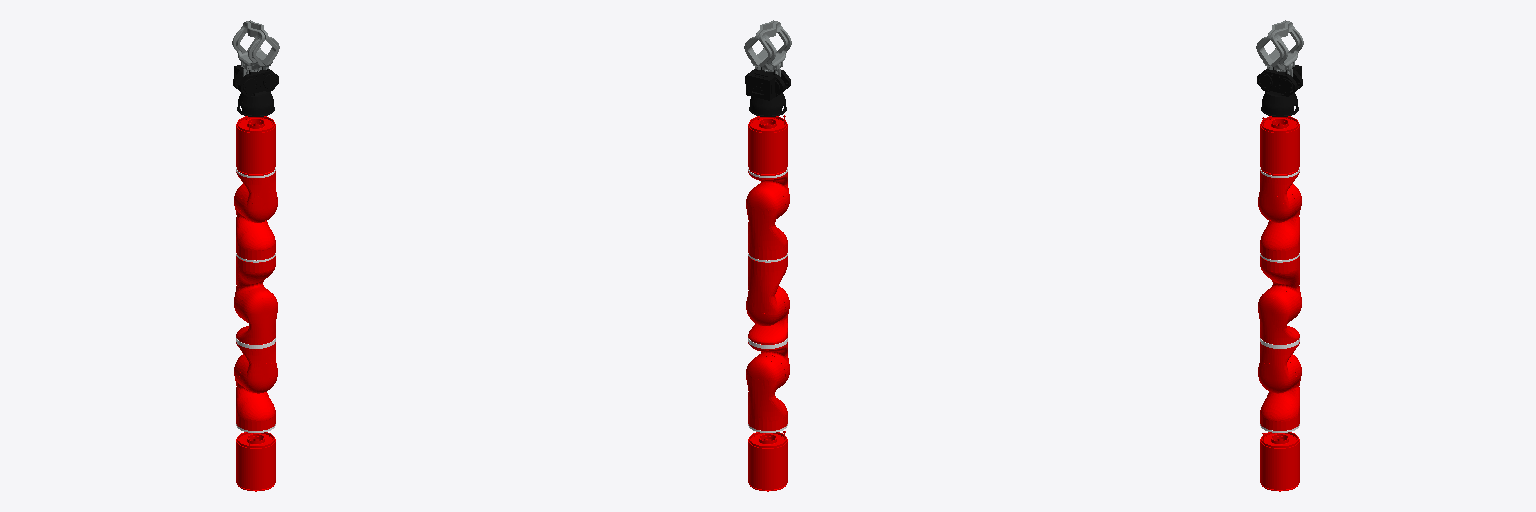
--- Facts derived from the render (not from the file) ---
Views: 3 orthographic renders of the robot side by side, from view 1: azimuth 30°, elevation 25°; view 2: azimuth 150°, elevation 25°; view 3: azimuth 330°, elevation 25°.
Model ModuleManipulator with 25 links and 24 joints (5 revolute, 2 prismatic, 17 fixed), rooted at base_link, posed every joint at zero.
Links seen in each view (by area): view 1: I5_InLink_1, I1_InLink_1, T3_OutLink_2, G6_palm_link, T2_InLink_1, T4_InLink_1, T4_OutLink_2, T2_OutLink_2, T3_InLink_1, G6_finger_link_l; view 2: T4_InLink_1, T2_InLink_1, I5_InLink_1, I1_InLink_1, T3_InLink_1, G6_palm_link, T3_OutLink_2, G6_finger_link_l; view 3: I5_InLink_1, I1_InLink_1, T3_OutLink_2, G6_palm_link, T2_InLink_1, T4_InLink_1, T4_OutLink_2, T2_OutLink_2, T3_InLink_1, G6_finger_link_r.
Boxes of the visible links, x1,y1,x2,y2 form: I5_InLink_1: [236, 116, 275, 175]; I1_InLink_1: [236, 432, 275, 491]; T3_OutLink_2: [236, 288, 277, 344]; G6_palm_link: [233, 65, 278, 116]; T2_InLink_1: [234, 354, 275, 430]; T4_InLink_1: [234, 183, 275, 260]; T4_OutLink_2: [236, 171, 277, 222]; T2_OutLink_2: [236, 342, 277, 393]; T3_InLink_1: [234, 256, 275, 318]; G6_finger_link_l: [232, 21, 264, 76]; T4_InLink_1: [746, 183, 787, 260]; T2_InLink_1: [746, 354, 787, 430]; I5_InLink_1: [748, 115, 787, 175]; I1_InLink_1: [748, 431, 787, 491]; T3_InLink_1: [746, 256, 787, 325]; G6_palm_link: [745, 67, 790, 116]; T3_OutLink_2: [748, 286, 789, 344]; G6_finger_link_l: [759, 21, 791, 76]; I5_InLink_1: [1260, 116, 1299, 175]; I1_InLink_1: [1260, 432, 1299, 491]; T3_OutLink_2: [1258, 288, 1299, 344]; G6_palm_link: [1257, 65, 1302, 116]; T2_InLink_1: [1260, 354, 1301, 430]; T4_InLink_1: [1260, 183, 1301, 259]; T4_OutLink_2: [1258, 171, 1299, 222]; T2_OutLink_2: [1258, 342, 1299, 393]; T3_InLink_1: [1260, 256, 1301, 318]; G6_finger_link_r: [1271, 21, 1303, 76].
Size in the robot's own frame: 0.1119 by 0.1005 by 1.27 metres.
Meshes: 11 distinct files referenced, 17 mesh visuals loaded (8 binary STL); not drawn: 6 (reference not matched to a file when rendering).

robot.urdf — ModuleManipulator:
<?xml version="1.0" ?>
<!-- =================================================================================== -->
<!-- |    This document was autogenerated by xacro from moduleManipulator.urdf.xacro   | -->
<!-- |    EDITING THIS FILE BY HAND IS NOT RECOMMENDED                                 | -->
<!-- =================================================================================== -->
<robot name="ModuleManipulator" xmlns:xacro="http://www.ros.org/wiki/xacro">
  <!-- materials for visualization -->
  <material name="Orange">
    <color rgba="1.0 0.4 0.0 1.0"/>
  </material>
  <material name="Grey">
    <color rgba="0.7 0.7 0.7 1.0"/>
  </material>
  <material name="DarkGrey">
    <color rgba="0.3 0.3 0.3 1.0"/>
  </material>
  <material name="White">
    <color rgba="1.0 1.0 1.0 1.0"/>
  </material>
  <material name="Black">
    <color rgba="0.0 0.0 0.0 1.0"/>
  </material>
  <material name="Red">
    <color rgba="1.0 0.0 0.0 1.0"/>
  </material>
  <material name="Green">
    <color rgba="0.0 1.0 0.0 1.0"/>
  </material>
  <material name="Blue">
    <color rgba="0.0 0.0 0.8 1.0"/>
  </material>
  <material name="LightGrey">
    <color rgba="0.82 0.82 0.82 1.0"/>
  </material>
  <!-- I Module -->
  <!--definition of default_inertial -->
  <!-- T Module -->
  <!--definition of default_inertial -->
  <!-- T Invert Module -->
  <!--definition of default_inertial -->
  <!-- Gripper100 Module -->
  <!--definition of default_inertial -->
  <!-- Gripper100 invert Module -->
  <!--definition of default_inertial -->
  <!-- Now we can start using the macros included above to define the actual youbot -->
  <!-- The first use of a macro.  This one was defined in base.urdf.xacro above.
       A macro like this will expand to a set of link and joint definitions, and to additional
       Gazebo-related extensions (sensor plugins, etc).  The macro takes an argument, name, 
       that equals "base", and uses it to generate names for its component links and joints 
       (e.g., base_link).  The included origin block is also an argument to the macro.  By convention, 
       the origin block defines where the component is w.r.t its parent (in this case the parent 
       is the world frame). For more, see http://www.ros.org/wiki/xacro -->
  <!-- foot for module arm-->
  <link name="base_link">
   
  </link>
  <!--  <xacro:G_invert name="G0" parent="base_link">-->
  <!--    <origin xyz="0 0 0.17836" rpy="${-pi*0.5} 0 0" />-->
  <!--  </xacro:G_invert>-->
  <!-- joint between base_link and Lockring_Link -->
  <joint name="I1_joint_0" type="fixed">
    <origin rpy="0 0 0" xyz="0 0 0"/>
    <parent link="base_link"/>
    <child link="I1_Lr_Link_0"/>
  </joint>
  <!--the Lockring_Link in I module-->
  <link name="I1_Lr_Link_0">
    <inertial>
      <origin rpy="0 0 1" xyz="1.7347E-18 4.5022E-17 0.0028047"/>
      <mass value="0.0017728"/>
      <inertia ixx="2.1769E-06" ixy="-6.7209E-37" ixz="8.0356E-39" iyy="2.1769E-06" iyz="-1.0785E-36" izz="4.3442E-06"/>
    </inertial>
    <visual>
      <origin rpy="0 0 0" xyz="0 0 0"/>
      <geometry>
        <mesh filename="package://mr_description/meshes/VI_InLink.STL"/>
      </geometry>
      <material name="White"/>
    </visual>
    <!--    <collision>-->
    <!--      <origin xyz="0 0 0" rpy="0 0 0" />-->
    <!--      <geometry>-->
    <!--        <mesh filename="package://mr_description/meshes/VI_InLink.STL" />-->
    <!--      </geometry>-->
    <!--    </collision>-->
  </link>
  <!-- joint between Lockring_Link and IModule_InLink -->
  <joint name="I1_Lr_Joint_1" type="fixed">
    <origin rpy="0 0 0" xyz="0 0 0"/>
    <parent link="I1_Lr_Link_0"/>
    <child link="I1_InLink_1"/>
    <axis xyz="0 0 0"/>
    <limit effort="0" lower="0" upper="0" velocity="0"/>
  </joint>
  <!--the IModule_InLink in I module-->
  <link name="I1_InLink_1">
    <inertial>
      <origin rpy="0 0 0" xyz="0.0024379 -0.0024994 0.076186"/>
      <mass value="0.58944"/>
      <inertia ixx="0.0012341" ixy="-3.8775E-05" ixz="-3.5596E-05" iyy="0.001235" iyz="3.487E-05" izz="0.00097195"/>
    </inertial>
    <visual>
      <origin rpy="0 0 0" xyz="0 0 0"/>
      <geometry>
        <mesh filename="package://mr_description/meshes/I_InLink.STL"/>
      </geometry>
      <material name="Red"/>
    </visual>
    <collision>
      <!--      <origin   xyz="0 0 0"  rpy="0 0 0" />-->
      <origin rpy="0 0 0" xyz="0 0 0.083"/>
      <geometry>
        <!--        <mesh   filename="package://mr_description/meshes/I_InLink.STL" />-->
        <cylinder length="0.158" radius="0.05"/>
      </geometry>
    </collision>
  </link>
  <!-- joint between IModule_InLink and IModule_OutLink -->
  <joint name="I1_Joint_2" type="revolute">
    <origin rpy="0 0 0" xyz="0 0 0.12015"/>
    <parent link="I1_InLink_1"/>
    <child link="I1_OutLink_2"/>
    <axis xyz="0 0 1"/>
    <limit effort="0" lower="-3.14" upper="3.14" velocity="0"/>
  </joint>
  <!--the IModule_OutLink in I module-->
  <link name="I1_OutLink_2">
    <inertial>
      <origin rpy="0 0 0" xyz="-2.1654E-06 1.6134E-06 0.015967"/>
      <mass value="1.185"/>
      <inertia ixx="0.0008146" ixy="-5.4911E-08" ixz="-2.4725E-08" iyy="0.00081463" iyz="1.7434E-08" izz="0.0013197"/>
    </inertial>
    <visual>
      <origin rpy="0 0 0" xyz="0 0 0"/>
      <geometry>
        <mesh filename="package://mr_description/meshes/I_OutLink.STL"/>
      </geometry>
      <material name="Red"/>
    </visual>
    <!--    <collision>-->
    <!--      <origin  xyz="0 0 0" rpy="0 0 0" />-->
    <!--      <geometry>-->
    <!--        <mesh  filename="package://mr_description/meshes/I_OutLink.STL" />-->
    <!--      </geometry>-->
    <!--    </collision>-->
  </link>
  <!-- joint between IModule_OutLink and Lockring_Link -->
  <joint name="I1_Lr_Joint_3" type="fixed">
    <origin rpy="0 0 0" xyz="0 0 0.0432"/>
    <parent link="I1_OutLink_2"/>
    <child link="I1_Lr_Link_3"/>
    <axis xyz="0 0 0"/>
    <limit effort="0" lower="0" upper="0" velocity="0"/>
  </joint>
  <!--the Lockring_Link in I module-->
  <link name="I1_Lr_Link_3">
    <inertial>
      <origin rpy="0 0 0" xyz="-1.7347E-18 4.5159E-17 -0.00285"/>
      <mass value="0.0017728"/>
      <inertia ixx="2.1769E-06" ixy="-9.5009E-37" ixz="1.6071E-38" iyy="2.1769E-06" iyz="-1.0575E-36" izz="4.3442E-06"/>
    </inertial>
    <visual>
      <origin rpy="0 0 0" xyz="0 0 0"/>
      <geometry>
        <mesh filename="package://mr_description/meshes/VI_OutLink.STL"/>
      </geometry>
      <material name="White"/>
    </visual>
    <!--    <collision>-->
    <!--      <origin  xyz="0 0 0" rpy="0 0 0" />-->
    <!--      <geometry>-->
    <!--        <mesh  filename="package://mr_description/meshes/VI_OutLink.STL" />-->
    <!--      </geometry>-->
    <!--    </collision>-->
  </link>
  <!-- joint between base_link and Lockring_Link -->
  <joint name="T2_joint_0" type="fixed">
    <origin rpy="0 0 0" xyz="0 0 0"/>
    <parent link="I1_Lr_Link_3"/>
    <child link="T2_Lr_Link_0"/>
  </joint>
  <!--the Lockring_Link in T module-->
  <link name="T2_Lr_Link_0">
    <inertial>
      <origin rpy="0 0 0" xyz="2.9038E-18 -2.1866E-18 0.0015"/>
      <mass value="8.4823E-05"/>
      <inertia ixx="2.5447E-10" ixy="-1.2925E-27" ixz="4.3983E-28" iyy="2.5447E-10" iyz="3.5597E-27" izz="3.817E-10"/>
    </inertial>
    <visual>
      <origin rpy="0 0 0" xyz="0 0 0"/>
      <geometry>
        <mesh filename="package://mr_description/meshes/VT_InLink.STL"/>
      </geometry>
      <material name="White"/>
    </visual>
    <!--    <collision>-->
    <!--      <origin xyz="0 0 0" rpy="0 0 0" />-->
    <!--      <geometry>-->
    <!--        <mesh filename="package://mr_description/meshes/VT_InLink.STL" />-->
    <!--      </geometry>-->
    <!--    </collision>-->
  </link>
  <!-- joint between Lockring_Link and TModule_InLink -->
  <joint name="T2_Lr_Joint_1" type="fixed">
    <origin rpy="0 0 0" xyz="0 0 0"/>
    <parent link="T2_Lr_Link_0"/>
    <child link="T2_InLink_1"/>
    <axis xyz="0 0 0"/>
    <limit effort="0" lower="0" upper="0" velocity="0"/>
  </joint>
  <!--the TModule_InLink in T module-->
  <link name="T2_InLink_1">
    <inertial>
      <origin rpy="0 0 0" xyz="4.5327E-06 0.014724 0.10236"/>
      <mass value="0.8287"/>
      <inertia ixx="0.0027398" ixy="-8.0424E-07" ixz="-2.3991E-06" iyy="0.0028894" iyz="0.00016467" izz="0.00086451"/>
    </inertial>
    <visual>
      <origin rpy="0 0 0" xyz="0 0 0"/>
      <geometry>
        <mesh filename="package://mr_description/meshes/T_InLink.STL"/>
      </geometry>
      <material name="Red"/>
    </visual>
    <collision>
      <origin rpy="0 0 0" xyz="0 0 0.04"/>
      <!--      <origin   xyz="0 0 0"  rpy="0 0 0" />-->
      <geometry>
        <cylinder length="0.07" radius="0.05"/>
        <!--        <mesh   filename="package://mr_description/meshes/T_InLink.STL" />-->
      </geometry>
    </collision>
  </link>
  <!-- joint between TModule_InLink and TModule_OutLink -->
  <joint name="T2_Joint_2" type="revolute">
    <origin rpy="-1.5708 1.2251E-16 -3.1416" xyz="0 0 0.1466"/>
    <parent link="T2_InLink_1"/>
    <child link="T2_OutLink_2"/>
    <axis xyz="0 0 1"/>
    <limit effort="0" lower="-2.07" upper="2.07" velocity="0"/>
  </joint>
  <!--the TModule_OutLink in T module-->
  <link name="T2_OutLink_2">
    <inertial>
      <origin rpy="0 0 0" xyz="2.0762E-05 -0.0094284 0.014486"/>
      <mass value="1.4322"/>
      <inertia ixx="0.0018144" ixy="-1.0634E-06" ixz="9.3521E-08" iyy="0.0011673" iyz="8.3209E-05" izz="0.0023046"/>
    </inertial>
    <visual>
      <origin rpy="0 0 0" xyz="0 0 0"/>
      <geometry>
        <mesh filename="package://mr_description/meshes/T_OutLink.STL"/>
      </geometry>
      <material name="Red"/>
    </visual>
    <collision>
      <origin rpy="1.57079632679 0 0" xyz="0 -0.025 0"/>
      <!--      <origin  xyz="0 0 0" rpy="0 0 0" />-->
      <geometry>
        <cylinder length="0.12" radius="0.05"/>
        <!--        <mesh  filename="package://mr_description/meshes/T_OutLink.STL" />-->
      </geometry>
    </collision>
  </link>
  <!-- joint between TModule_OutLink and Lockring_Link -->
  <joint name="T2_Lr_Joint_3" type="fixed">
    <origin rpy="-1.5708 0 3.1416" xyz="0 -0.0934 0"/>
    <parent link="T2_OutLink_2"/>
    <child link="T2_Lr_Link_3"/>
    <axis xyz="0 0 0"/>
    <limit effort="0" lower="0" upper="0" velocity="0"/>
  </joint>
  <!--the Lockring_Link in T module-->
  <link name="T2_Lr_Link_3">
    <inertial>
      <origin rpy="0 0 0" xyz="-2.7136E-19 9.8046E-20 -0.0015"/>
      <mass value="8.4823E-05"/>
      <inertia ixx="2.5447E-10" ixy="0" ixz="-1.9769E-26" iyy="2.5447E-10" iyz="9.4423E-27" izz="3.817E-10"/>
    </inertial>
    <visual>
      <origin rpy="0 0 0" xyz="0 0 0"/>
      <geometry>
        <mesh filename="package://mr_description/meshes/VT_OutLink.STL"/>
      </geometry>
      <material name="White"/>
    </visual>
    <!--    <collision>-->
    <!--      <origin  xyz="0 0 0" rpy="0 0 0" />-->
    <!--      <geometry>-->
    <!--        <mesh  filename="package://mr_description/meshes/VT_OutLink.STL" />-->
    <!--      </geometry>-->
    <!--    </collision>   -->
  </link>
  <!-- joint between base_link and Lockring_Link -->
  <joint name="T3_joint_0" type="fixed">
    <origin rpy="0 0 0" xyz="0 0 0.005"/>
    <!--    <origin xyz="0 0 0.005" rpy="0 0 0" />-->
    <parent link="T2_Lr_Link_3"/>
    <child link="T3_Lr_Link_3"/>
  </joint>
  <!--the Lockring_Link in T module-->
  <link name="T3_Lr_Link_3">
    <inertial>
      <origin rpy="0 0 0" xyz="-2.7136E-19 9.8046E-20 -0.0015"/>
      <mass value="8.4823E-05"/>
      <inertia ixx="2.5447E-10" ixy="0" ixz="-1.9769E-26" iyy="2.5447E-10" iyz="9.4423E-27" izz="3.817E-10"/>
    </inertial>
    <visual>
      <origin rpy="0 0 0" xyz="0 0 0"/>
      <geometry>
        <mesh filename="package://mr_description/meshes/VT_OutLink.STL"/>
      </geometry>
      <material name="White"/>
    </visual>
    <!--    <collision>-->
    <!--      <origin  xyz="0 0 0" rpy="0 0 0" />-->
    <!--      <geometry>-->
    <!--        <mesh  filename="package://mr_description/meshes/VT_OutLink.STL" />-->
    <!--      </geometry>-->
    <!--    </collision>   -->
  </link>
  <!-- joint between TModule_OutLink and Lockring_Link -->
  <joint name="T3_Lr_Joint_3" type="fixed">
    <origin rpy="-1.57079632679 3.1416 3.1416" xyz="0 0 0.0884"/>
    <child link="T3_OutLink_2"/>
    <parent link="T3_Lr_Link_3"/>
    <axis xyz="0 0 0"/>
    <limit effort="0" lower="0" upper="0" velocity="0"/>
  </joint>
  <!--the TModule_OutLink in T module-->
  <link name="T3_OutLink_2">
    <inertial>
      <origin rpy="0 0 0" xyz="2.0762E-05 -0.0094284 0.014486"/>
      <mass value="1.4322"/>
      <inertia ixx="0.0018144" ixy="-1.0634E-06" ixz="9.3521E-08" iyy="0.0011673" iyz="8.3209E-05" izz="0.0023046"/>
    </inertial>
    <visual>
      <origin rpy="0 0 0" xyz="0 0 0"/>
      <geometry>
        <mesh filename="package://mr_description/meshes/T_OutLink.STL"/>
      </geometry>
      <material name="Red"/>
    </visual>
    <collision>
      <origin rpy="1.57079632679 0 0" xyz="0 -0.03 0"/>
      <!--      <origin  xyz="0 0 0" rpy="0 0 0" />-->
      <geometry>
        <cylinder length="0.12" radius="0.05"/>
        <!--        <mesh  filename="package://mr_description/meshes/T_OutLink.STL" />-->
      </geometry>
    </collision>
  </link>
  <!-- joint between TModule_InLink and TModule_OutLink -->
  <joint name="T3_Joint_2" type="revolute">
    <origin rpy="4.7124 -1.2251E-16 3.1416" xyz=" 0 0 0"/>
    <!--    <origin  xyz=" 0 0 -0.1466"  rpy="4.7124 -1.2251E-16 3.1416" />-->
    <child link="T3_InLink_1"/>
    <parent link="T3_OutLink_2"/>
    <axis xyz="0 1 0"/>
    <limit effort="0" lower="-2.07" upper="2.07" velocity="0"/>
  </joint>
  <!--the TModule_InLink in T module-->
  <link name="T3_InLink_1">
    <inertial>
      <origin rpy="0 0 0" xyz="4.5327E-06 0.014724 -0.04424"/>
      <!--      <origin xyz="4.5327E-06 0.014724 0.10236-0.1466" rpy="0 0 0" />-->
      <mass value="0.8287"/>
      <inertia ixx="0.0027398" ixy="-8.0424E-07" ixz="-2.3991E-06" iyy="0.0028894" iyz="0.00016467" izz="0.00086451"/>
    </inertial>
    <visual>
      <origin rpy="0 0 0" xyz="0 0 -0.1466"/>
      <geometry>
        <mesh filename="package://mr_description/meshes/T_InLink.STL"/>
      </geometry>
      <material name="Red"/>
    </visual>
    <collision>
      <origin rpy="0 0 0" xyz="0 0 -0.11"/>
      <!--      <origin   xyz="0 0 -0.1466"  rpy="0 0 0" />-->
      <geometry>
        <cylinder length="0.07" radius="0.05"/>
        <!--        <mesh   filename="package://mr_description/meshes/T_InLink.STL" />-->
      </geometry>
    </collision>
  </link>
  <!-- joint between Lockring_Link and TModule_InLink -->
  <joint name="T3_Lr_Joint_1" type="fixed">
    <origin rpy="0 3.1416 0" xyz="0 0 -0.1416"/>
    <child link="T3_Lr_Link_0"/>
    <parent link="T3_InLink_1"/>
    <axis xyz="0 0 0"/>
    <limit effort="0" lower="0" upper="0" velocity="0"/>
  </joint>
  <!--the Lockring_Link in T module-->
  <link name="T3_Lr_Link_0">
    <inertial>
      <origin rpy="0 0 0" xyz="2.9038E-18 -2.1866E-18 0.0015"/>
      <mass value="8.4823E-05"/>
      <inertia ixx="2.5447E-10" ixy="-1.2925E-27" ixz="4.3983E-28" iyy="2.5447E-10" iyz="3.5597E-27" izz="3.817E-10"/>
    </inertial>
    <visual>
      <origin rpy="0 0 0" xyz="0 0 0"/>
      <geometry>
        <mesh filename="package://mr_description/meshes/VT_InLink.STL"/>
      </geometry>
      <material name="White"/>
    </visual>
    <!--    <collision>-->
    <!--      <origin xyz="0 0 0" rpy="0 0 0" />-->
    <!--      <geometry>-->
    <!--        <mesh filename="package://mr_description/meshes/VT_InLink.STL" />-->
    <!--      </geometry>-->
    <!--    </collision>-->
  </link>
  <!-- joint between base_link and Lockring_Link -->
  <joint name="T4_joint_0" type="fixed">
    <origin rpy="0 0 0" xyz="0 0 0"/>
    <parent link="T3_Lr_Link_0"/>
    <child link="T4_Lr_Link_0"/>
  </joint>
  <!--the Lockring_Link in T module-->
  <link name="T4_Lr_Link_0">
    <inertial>
      <origin rpy="0 0 0" xyz="2.9038E-18 -2.1866E-18 0.0015"/>
      <mass value="8.4823E-05"/>
      <inertia ixx="2.5447E-10" ixy="-1.2925E-27" ixz="4.3983E-28" iyy="2.5447E-10" iyz="3.5597E-27" izz="3.817E-10"/>
    </inertial>
    <visual>
      <origin rpy="0 0 0" xyz="0 0 0"/>
      <geometry>
        <mesh filename="package://mr_description/meshes/VT_InLink.STL"/>
      </geometry>
      <material name="White"/>
    </visual>
    <!--    <collision>-->
    <!--      <origin xyz="0 0 0" rpy="0 0 0" />-->
    <!--      <geometry>-->
    <!--        <mesh filename="package://mr_description/meshes/VT_InLink.STL" />-->
    <!--      </geometry>-->
    <!--    </collision>-->
  </link>
  <!-- joint between Lockring_Link and TModule_InLink -->
  <joint name="T4_Lr_Joint_1" type="fixed">
    <origin rpy="0 0 0" xyz="0 0 0"/>
    <parent link="T4_Lr_Link_0"/>
    <child link="T4_InLink_1"/>
    <axis xyz="0 0 0"/>
    <limit effort="0" lower="0" upper="0" velocity="0"/>
  </joint>
  <!--the TModule_InLink in T module-->
  <link name="T4_InLink_1">
    <inertial>
      <origin rpy="0 0 0" xyz="4.5327E-06 0.014724 0.10236"/>
      <mass value="0.8287"/>
      <inertia ixx="0.0027398" ixy="-8.0424E-07" ixz="-2.3991E-06" iyy="0.0028894" iyz="0.00016467" izz="0.00086451"/>
    </inertial>
    <visual>
      <origin rpy="0 0 0" xyz="0 0 0"/>
      <geometry>
        <mesh filename="package://mr_description/meshes/T_InLink.STL"/>
      </geometry>
      <material name="Red"/>
    </visual>
    <collision>
      <origin rpy="0 0 0" xyz="0 0 0.04"/>
      <!--      <origin   xyz="0 0 0"  rpy="0 0 0" />-->
      <geometry>
        <cylinder length="0.07" radius="0.05"/>
        <!--        <mesh   filename="package://mr_description/meshes/T_InLink.STL" />-->
      </geometry>
    </collision>
  </link>
  <!-- joint between TModule_InLink and TModule_OutLink -->
  <joint name="T4_Joint_2" type="revolute">
    <origin rpy="-1.5708 1.2251E-16 -3.1416" xyz="0 0 0.1466"/>
    <parent link="T4_InLink_1"/>
    <child link="T4_OutLink_2"/>
    <axis xyz="0 0 1"/>
    <limit effort="0" lower="-2.07" upper="2.07" velocity="0"/>
  </joint>
  <!--the TModule_OutLink in T module-->
  <link name="T4_OutLink_2">
    <inertial>
      <origin rpy="0 0 0" xyz="2.0762E-05 -0.0094284 0.014486"/>
      <mass value="1.4322"/>
      <inertia ixx="0.0018144" ixy="-1.0634E-06" ixz="9.3521E-08" iyy="0.0011673" iyz="8.3209E-05" izz="0.0023046"/>
    </inertial>
    <visual>
      <origin rpy="0 0 0" xyz="0 0 0"/>
      <geometry>
        <mesh filename="package://mr_description/meshes/T_OutLink.STL"/>
      </geometry>
      <material name="Red"/>
    </visual>
    <collision>
      <origin rpy="1.57079632679 0 0" xyz="0 -0.025 0"/>
      <!--      <origin  xyz="0 0 0" rpy="0 0 0" />-->
      <geometry>
        <cylinder length="0.12" radius="0.05"/>
        <!--        <mesh  filename="package://mr_description/meshes/T_OutLink.STL" />-->
      </geometry>
    </collision>
  </link>
  <!-- joint between TModule_OutLink and Lockring_Link -->
  <joint name="T4_Lr_Joint_3" type="fixed">
    <origin rpy="-1.5708 0 3.1416" xyz="0 -0.0934 0"/>
    <parent link="T4_OutLink_2"/>
    <child link="T4_Lr_Link_3"/>
    <axis xyz="0 0 0"/>
    <limit effort="0" lower="0" upper="0" velocity="0"/>
  </joint>
  <!--the Lockring_Link in T module-->
  <link name="T4_Lr_Link_3">
    <inertial>
      <origin rpy="0 0 0" xyz="-2.7136E-19 9.8046E-20 -0.0015"/>
      <mass value="8.4823E-05"/>
      <inertia ixx="2.5447E-10" ixy="0" ixz="-1.9769E-26" iyy="2.5447E-10" iyz="9.4423E-27" izz="3.817E-10"/>
    </inertial>
    <visual>
      <origin rpy="0 0 0" xyz="0 0 0"/>
      <geometry>
        <mesh filename="package://mr_description/meshes/VT_OutLink.STL"/>
      </geometry>
      <material name="White"/>
    </visual>
    <!--    <collision>-->
    <!--      <origin  xyz="0 0 0" rpy="0 0 0" />-->
    <!--      <geometry>-->
    <!--        <mesh  filename="package://mr_description/meshes/VT_OutLink.STL" />-->
    <!--      </geometry>-->
    <!--    </collision>   -->
  </link>
  <!-- joint between base_link and Lockring_Link -->
  <joint name="I5_joint_0" type="fixed">
    <origin rpy="0 0 0" xyz="0 0 0"/>
    <parent link="T4_Lr_Link_3"/>
    <child link="I5_Lr_Link_0"/>
  </joint>
  <!--the Lockring_Link in I module-->
  <link name="I5_Lr_Link_0">
    <inertial>
      <origin rpy="0 0 1" xyz="1.7347E-18 4.5022E-17 0.0028047"/>
      <mass value="0.0017728"/>
      <inertia ixx="2.1769E-06" ixy="-6.7209E-37" ixz="8.0356E-39" iyy="2.1769E-06" iyz="-1.0785E-36" izz="4.3442E-06"/>
    </inertial>
    <visual>
      <origin rpy="0 0 0" xyz="0 0 0"/>
      <geometry>
        <mesh filename="package://mr_description/meshes/VI_InLink.STL"/>
      </geometry>
      <material name="White"/>
    </visual>
    <!--    <collision>-->
    <!--      <origin xyz="0 0 0" rpy="0 0 0" />-->
    <!--      <geometry>-->
    <!--        <mesh filename="package://mr_description/meshes/VI_InLink.STL" />-->
    <!--      </geometry>-->
    <!--    </collision>-->
  </link>
  <!-- joint between Lockring_Link and IModule_InLink -->
  <joint name="I5_Lr_Joint_1" type="fixed">
    <origin rpy="0 0 0" xyz="0 0 0"/>
    <parent link="I5_Lr_Link_0"/>
    <child link="I5_InLink_1"/>
    <axis xyz="0 0 0"/>
    <limit effort="0" lower="0" upper="0" velocity="0"/>
  </joint>
  <!--the IModule_InLink in I module-->
  <link name="I5_InLink_1">
    <inertial>
      <origin rpy="0 0 0" xyz="0.0024379 -0.0024994 0.076186"/>
      <mass value="0.58944"/>
      <inertia ixx="0.0012341" ixy="-3.8775E-05" ixz="-3.5596E-05" iyy="0.001235" iyz="3.487E-05" izz="0.00097195"/>
    </inertial>
    <visual>
      <origin rpy="0 0 0" xyz="0 0 0"/>
      <geometry>
        <mesh filename="package://mr_description/meshes/I_InLink.STL"/>
      </geometry>
      <material name="Red"/>
    </visual>
    <collision>
      <!--      <origin   xyz="0 0 0"  rpy="0 0 0" />-->
      <origin rpy="0 0 0" xyz="0 0 0.083"/>
      <geometry>
        <!--        <mesh   filename="package://mr_description/meshes/I_InLink.STL" />-->
        <cylinder length="0.158" radius="0.05"/>
      </geometry>
    </collision>
  </link>
  <!-- joint between IModule_InLink and IModule_OutLink -->
  <joint name="I5_Joint_2" type="revolute">
    <origin rpy="0 0 0" xyz="0 0 0.12015"/>
    <parent link="I5_InLink_1"/>
    <child link="I5_OutLink_2"/>
    <axis xyz="0 0 1"/>
    <limit effort="0" lower="-3.14" upper="3.14" velocity="0"/>
  </joint>
  <!--the IModule_OutLink in I module-->
  <link name="I5_OutLink_2">
    <inertial>
      <origin rpy="0 0 0" xyz="-2.1654E-06 1.6134E-06 0.015967"/>
      <mass value="1.185"/>
      <inertia ixx="0.0008146" ixy="-5.4911E-08" ixz="-2.4725E-08" iyy="0.00081463" iyz="1.7434E-08" izz="0.0013197"/>
    </inertial>
    <visual>
      <origin rpy="0 0 0" xyz="0 0 0"/>
      <geometry>
        <mesh filename="package://mr_description/meshes/I_OutLink.STL"/>
      </geometry>
      <material name="Red"/>
    </visual>
    <!--    <collision>-->
    <!--      <origin  xyz="0 0 0" rpy="0 0 0" />-->
    <!--      <geometry>-->
    <!--        <mesh  filename="package://mr_description/meshes/I_OutLink.STL" />-->
    <!--      </geometry>-->
    <!--    </collision>-->
  </link>
  <!-- joint between IModule_OutLink and Lockring_Link -->
  <joint name="I5_Lr_Joint_3" type="fixed">
    <origin rpy="0 0 0" xyz="0 0 0.0432"/>
    <parent link="I5_OutLink_2"/>
    <child link="I5_Lr_Link_3"/>
    <axis xyz="0 0 0"/>
    <limit effort="0" lower="0" upper="0" velocity="0"/>
  </joint>
  <!--the Lockring_Link in I module-->
  <link name="I5_Lr_Link_3">
    <inertial>
      <origin rpy="0 0 0" xyz="-1.7347E-18 4.5159E-17 -0.00285"/>
      <mass value="0.0017728"/>
      <inertia ixx="2.1769E-06" ixy="-9.5009E-37" ixz="1.6071E-38" iyy="2.1769E-06" iyz="-1.0575E-36" izz="4.3442E-06"/>
    </inertial>
    <visual>
      <origin rpy="0 0 0" xyz="0 0 0"/>
      <geometry>
        <mesh filename="package://mr_description/meshes/VI_OutLink.STL"/>
      </geometry>
      <material name="White"/>
    </visual>
    <!--    <collision>-->
    <!--      <origin  xyz="0 0 0" rpy="0 0 0" />-->
    <!--      <geometry>-->
    <!--        <mesh  filename="package://mr_description/meshes/VI_OutLink.STL" />-->
    <!--      </geometry>-->
    <!--    </collision>-->
  </link>
  <!-- joint between parent_link and palm _Link -->
  <joint name="G6_joint_0" type="fixed">
    <origin rpy="1.57079632679 0 0" xyz="0 0 0"/>
    <parent link="I5_Lr_Link_3"/>
    <child link="G6_palm_link"/>
  </joint>
  <!--the palm link-->
  <link name="G6_palm_link">
    <inertial>
      <origin rpy="0 0 0" xyz="-0.000330111921985683 0.0532067396112178 -0.00203994238779312"/>
      <mass value="1.0043961075726"/>
      <inertia ixx="0.00113334295507504" ixy="8.90230328283654E-06" ixz="-1.34473831837329E-06" iyy="0.000914211060471031" iyz="-6.54903141389812E-05" izz="0.00129135037593152"/>
    </inertial>
    <visual>
      <origin rpy="0 0 0" xyz="0 0 0"/>
      <geometry>
        <mesh filename="package://mr_description/meshes/palm_link.STL"/>
      </geometry>
      <material name="">
        <color rgba="0.1 0.1 0.1 1"/>
      </material>
    </visual>
    <collision>
      <origin rpy="1.57079632679 0 0" xyz="0 0.065 0"/>
      <!--      <origin  xyz="0 0 0"  rpy="0 0 0" />-->
      <geometry>
        <cylinder length="0.12" radius="0.05"/>
        <!--        <mesh filename="package://mr_description/meshes/palm_link.STL" />-->
      </geometry>
    </collision>
  </link>
  <!--  joint between the palm and the left finger-->
  <joint name="G6_finger_joint_l" type="prismatic">
    <origin rpy="0 0 0" xyz="0.038 0 0"/>
    <parent link="G6_palm_link"/>
    <child link="G6_finger_link_l"/>
    <axis xyz="-1 0 0"/>
    <limit effort="0" lower="0" upper="0.04" velocity="0"/>
    <dynamics damping="1" friction="1"/>
  </joint>
  <!--  the left finger link-->
  <link name="G6_finger_link_l">
    <inertial>
      <origin rpy="0 0 0" xyz="-0.053748 0.15337 2.2717E-07"/>
      <mass value="0.89853"/>
      <inertia ixx="0.0023606" ixy="-0.00017835" ixz="4.9579E-09" iyy="0.00087228" iyz="-8.5058E-09" izz="0.0018271"/>
    </inertial>
    <visual>
      <origin rpy="0 0 0" xyz="0 0 0"/>
      <geometry>
        <mesh filename="package://mr_description/meshes/finger_link_l.STL"/>
      </geometry>
      <material name="">
        <color rgba="0.52941 0.54902 0.54902 1"/>
      </material>
    </visual>
    <collision>
      <origin rpy="0 0 0" xyz="-0.05 0.18 0"/>
      <!--      <origin xyz="0 0 0" rpy="0 0 0" />-->
      <geometry>
        <box size="0.01 0.1 0.1"/>
        <!--        <mesh filename="package://mr_description/meshes/finger_link_l.STL" />-->
      </geometry>
    </collision>
  </link>
  <!--  joint between the right finger and the palm-->
  <joint name="G6_finger_joint_r" type="prismatic">
    <origin rpy="0 0 0" xyz="-0.038 0 0"/>
    <parent link="G6_palm_link"/>
    <child link="G6_finger_link_r"/>
    <axis xyz="1 0 0"/>
    <limit effort="0" lower="0" upper="0.04" velocity="0"/>
    <dynamics damping="1" friction="1"/>
  </joint>
  <!-- the right finger link-->
  <link name="G6_finger_link_r">
    <inertial>
      <origin rpy="0 0 0" xyz="0.053748 0.15337 -2.2717E-07"/>
      <mass value="0.89853"/>
      <inertia ixx="0.0023606" ixy="0.00017835" ixz="4.9579E-09" iyy="0.00087228" iyz="8.5058E-09" izz="0.0018271"/>
    </inertial>
    <visual>
      <origin rpy="0 0 0" xyz="0 0 0"/>
      <geometry>
        <mesh filename="package://mr_description/meshes/finger_link_r.STL"/>
      </geometry>
      <material name="">
        <color rgba="0.52941 0.54902 0.54902 1"/>
      </material>
    </visual>
    <collision>
      <origin rpy="0 0 0" xyz="0.05 0.18 0"/>
      <!--      <origin xyz="0 0 0" rpy="0 0 0" />-->
      <geometry>
        <box size="0.01 0.1 0.1"/>
        <!--        <mesh filename="package://mr_description/meshes/finger_link_r.STL" />-->
      </geometry>
    </collision>
  </link>
  <!--    joint between the palm link and the tcp-->
  <joint name="G6_tcp_joint" type="fixed">
    <origin rpy="0 0 0" xyz="0 0.17836 0"/>
    <parent link="G6_palm_link"/>
    <child link="G6_tcp"/>
    <axis xyz="0 0 0"/>
  </joint>
  <link name="G6_tcp"/>
  <!--  <xacro:I_module name="_I5" parent="base_link">-->
  <!--    <origin xyz="0.2 0 0" rpy="0 0 0" />-->
  <!--  </xacro:I_module>-->
  <!--  <xacro:T_module name="_T4" parent="_I5_Lr_Link_3">-->
  <!--    <origin xyz="0 0 0" rpy="0 0 0" />-->
  <!--  </xacro:T_module>-->
  <!--  -->
  <!--  <xacro:T_Invert name="_T3" parent="_T4_Lr_Link_3">-->
  <!--  </xacro:T_Invert>-->
  <!--  <xacro:T_module name="_T2" parent="_T3_Lr_Link_0">-->
  <!--    <origin xyz="0 0 0" rpy="0 0 0" />-->
  <!--  </xacro:T_module>-->
  <!--  <xacro:I_module name="_I1" parent="_T2_Lr_Link_3">-->
  <!--    <origin xyz="0 0 0" rpy="0 0 0" />-->
  <!--  </xacro:I_module>-->
  <!--  -->
  <!--  <xacro:G_module name="_G0" parent="_I1_Lr_Link_3">-->
  <!--    <origin xyz="0 0 0" rpy="${pi*0.5} 0 0" />-->
  <!--  </xacro:G_module>-->
</robot>
